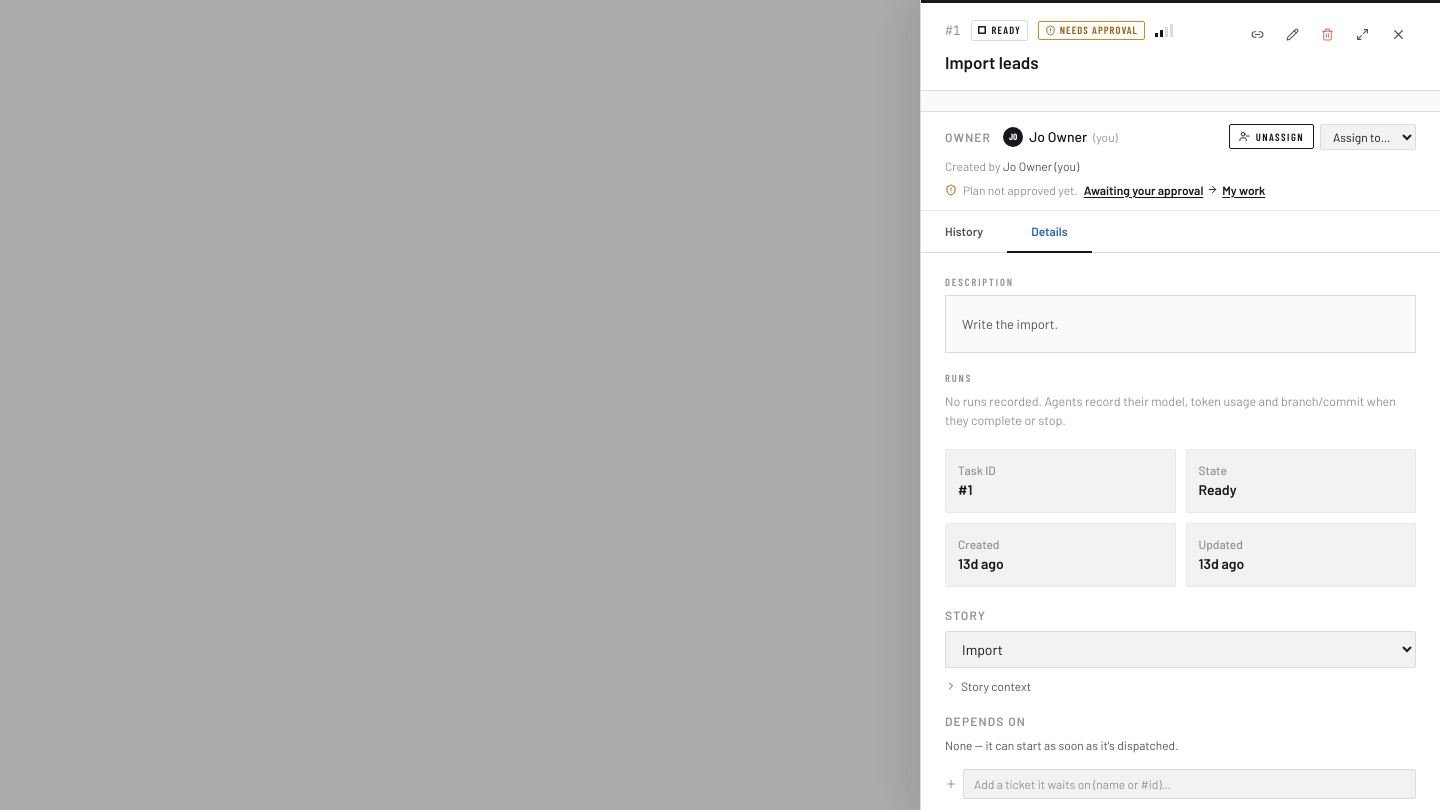
Scenario: TaskDrawer story context (#133) › shows the story's description as markdown after expanding Story context
This screenshot has width=1440, height=810.
Click the button "Story context".
click(988, 686)  # box x1=945 y1=677 x2=1031 y2=695
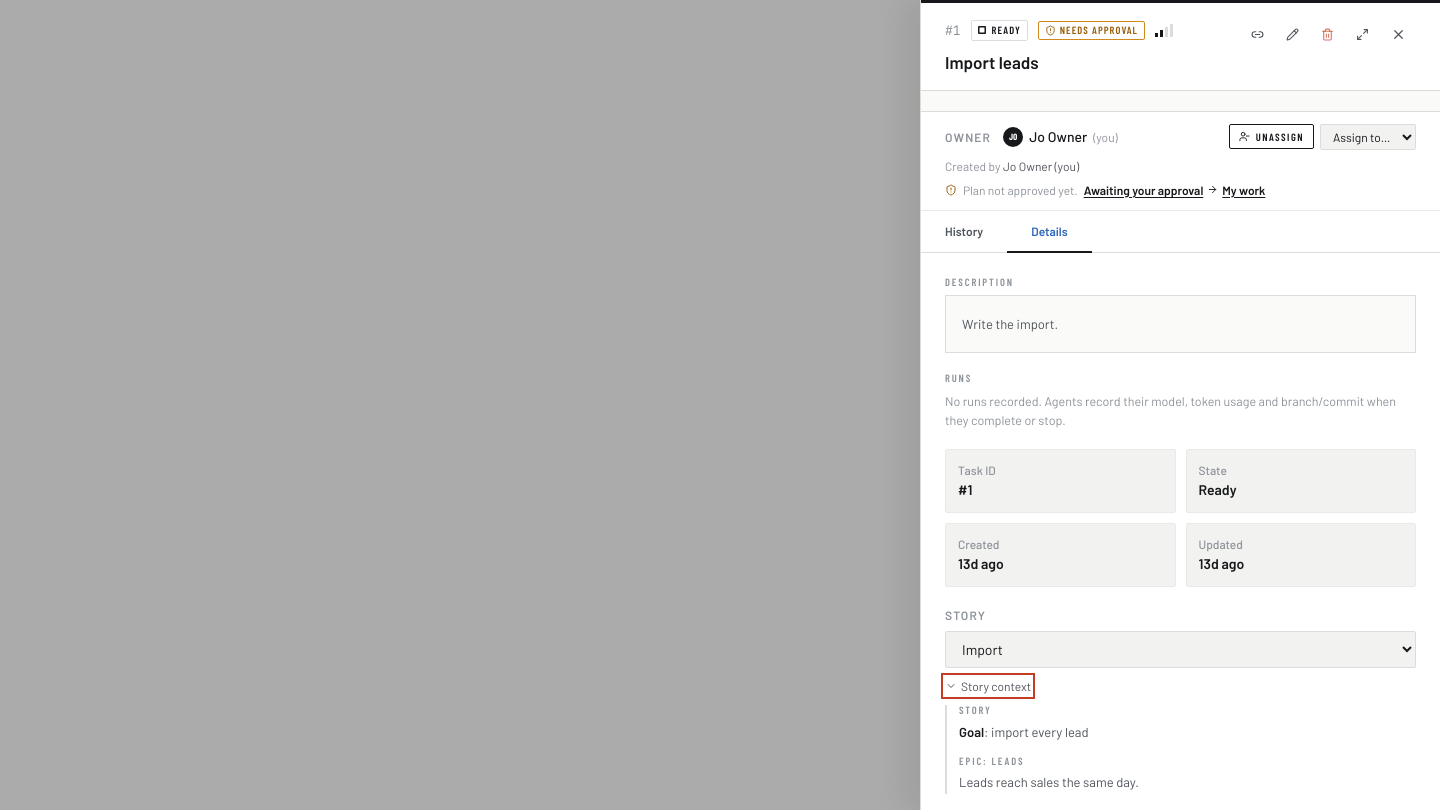
Result: the text "Goal" is shown at x1=959 y1=724 x2=984 y2=740
Result: the text "Leads reach sales the same day." is shown at x1=959 y1=774 x2=1139 y2=790
